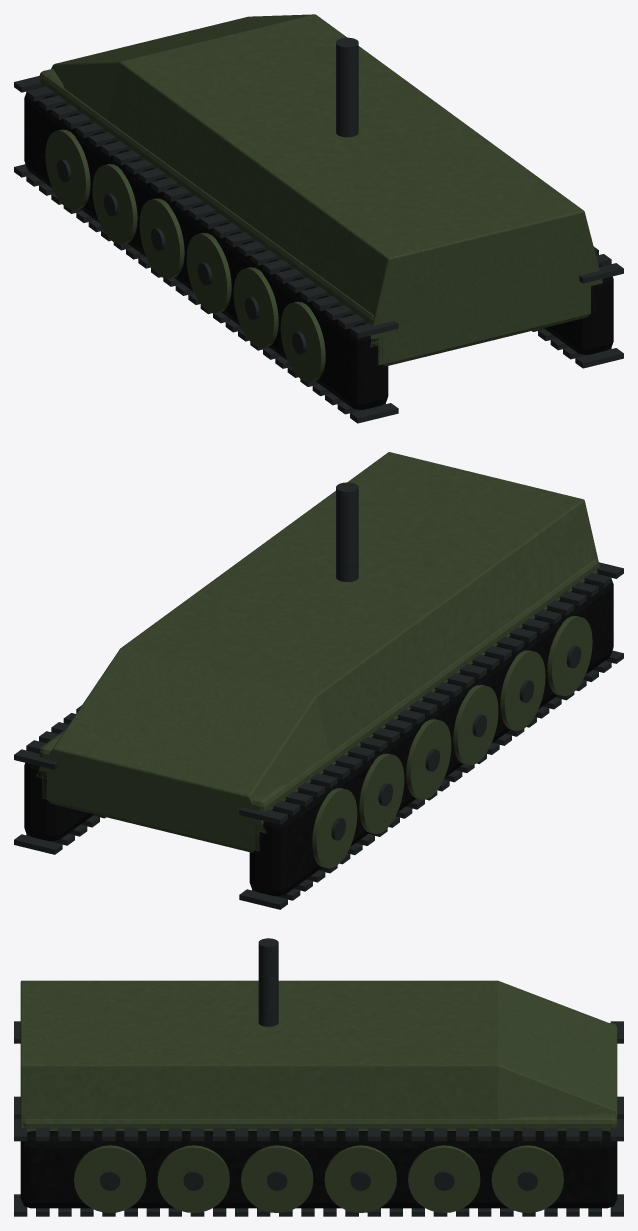
The picture shows the model from 3 angles, top to bottom: view 1: azimuth 30°, elevation 25°; view 2: azimuth 150°, elevation 25°; view 3: azimuth 270°, elevation 25°; orthographic projection. The views are drawn at different scales.
Parts seen in each view (by area): view 1: Hull_MVP olive paint, RunningGear_MVP olive paint, RunningGear_MVP rubber, RunningGear_MVP exposed metal, Hull_MVP exposed metal; view 2: Hull_MVP olive paint, RunningGear_MVP exposed metal, RunningGear_MVP olive paint, RunningGear_MVP rubber, Hull_MVP exposed metal; view 3: Hull_MVP olive paint, RunningGear_MVP olive paint, RunningGear_MVP rubber, RunningGear_MVP exposed metal, Hull_MVP exposed metal.
Part boxes in pixels (x1=…): Hull_MVP olive paint: x1=39, y1=14, x2=602, y2=366; RunningGear_MVP olive paint: x1=45, y1=129, x2=325, y2=382; RunningGear_MVP rubber: x1=24, y1=87, x2=613, y2=409; RunningGear_MVP exposed metal: x1=14, y1=76, x2=623, y2=423; Hull_MVP exposed metal: x1=336, y1=37, x2=358, y2=137; Hull_MVP olive paint: x1=36, y1=452, x2=599, y2=852; RunningGear_MVP exposed metal: x1=14, y1=562, x2=623, y2=909; RunningGear_MVP olive paint: x1=312, y1=616, x2=592, y2=868; RunningGear_MVP rubber: x1=24, y1=573, x2=613, y2=896; Hull_MVP exposed metal: x1=336, y1=482, x2=358, y2=581; Hull_MVP olive paint: x1=20, y1=980, x2=617, y2=1132; RunningGear_MVP olive paint: x1=74, y1=1145, x2=563, y2=1212; RunningGear_MVP rubber: x1=20, y1=1131, x2=617, y2=1208; RunningGear_MVP exposed metal: x1=14, y1=1021, x2=623, y2=1216; Hull_MVP exposed metal: x1=258, y1=938, x2=278, y2=1026.
Bounding box in the file's own units: 3.39 × 2.84 × 7.26.
Materials: 3 (3 with a texture image).
